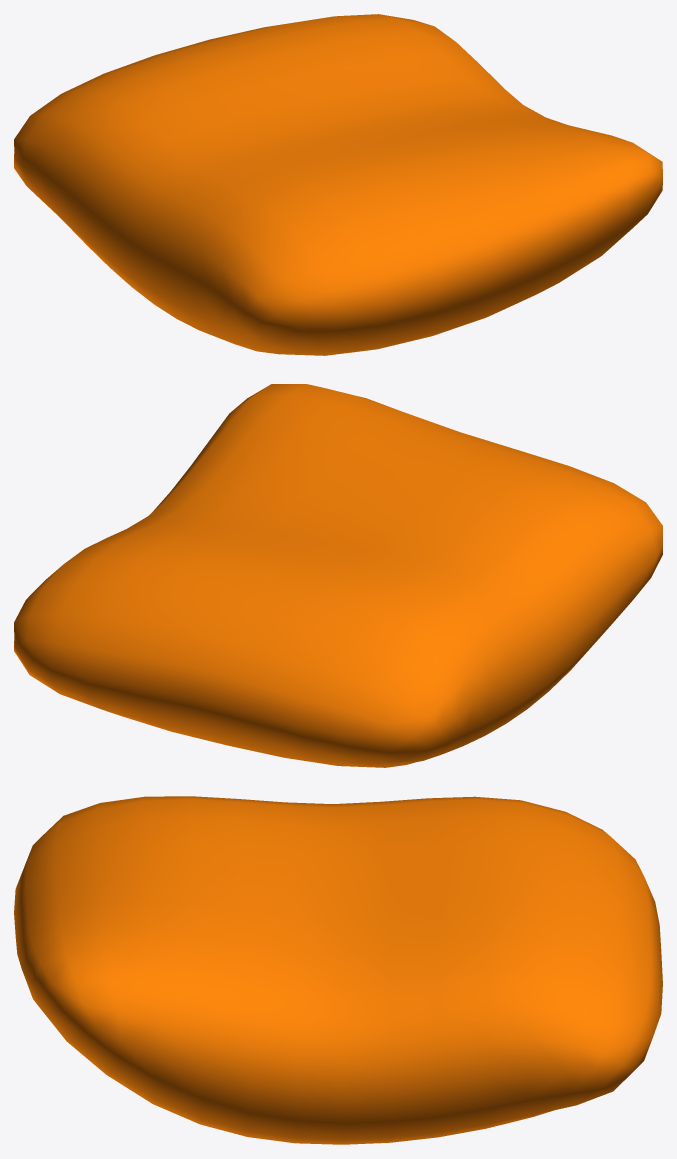
The model's file is Farm_1_Bag_1.glb.
The picture shows the model from 3 angles, top to bottom: view 1: azimuth 30°, elevation 25°; view 2: azimuth 150°, elevation 25°; view 3: azimuth 270°, elevation 25°; orthographic projection. The views are drawn at different scales.
Parts seen in each view (by area): view 1: Farm_1_Bag_1; view 2: Farm_1_Bag_1; view 3: Farm_1_Bag_1.
Part boxes in pixels (<box>): Farm_1_Bag_1: <box>14,14,662,355</box>; Farm_1_Bag_1: <box>14,384,662,767</box>; Farm_1_Bag_1: <box>14,796,662,1144</box>.
Bounding box in the file's own units: 0.6037 × 0.273 × 0.7169.
Materials: 1 (1 with a texture image).
